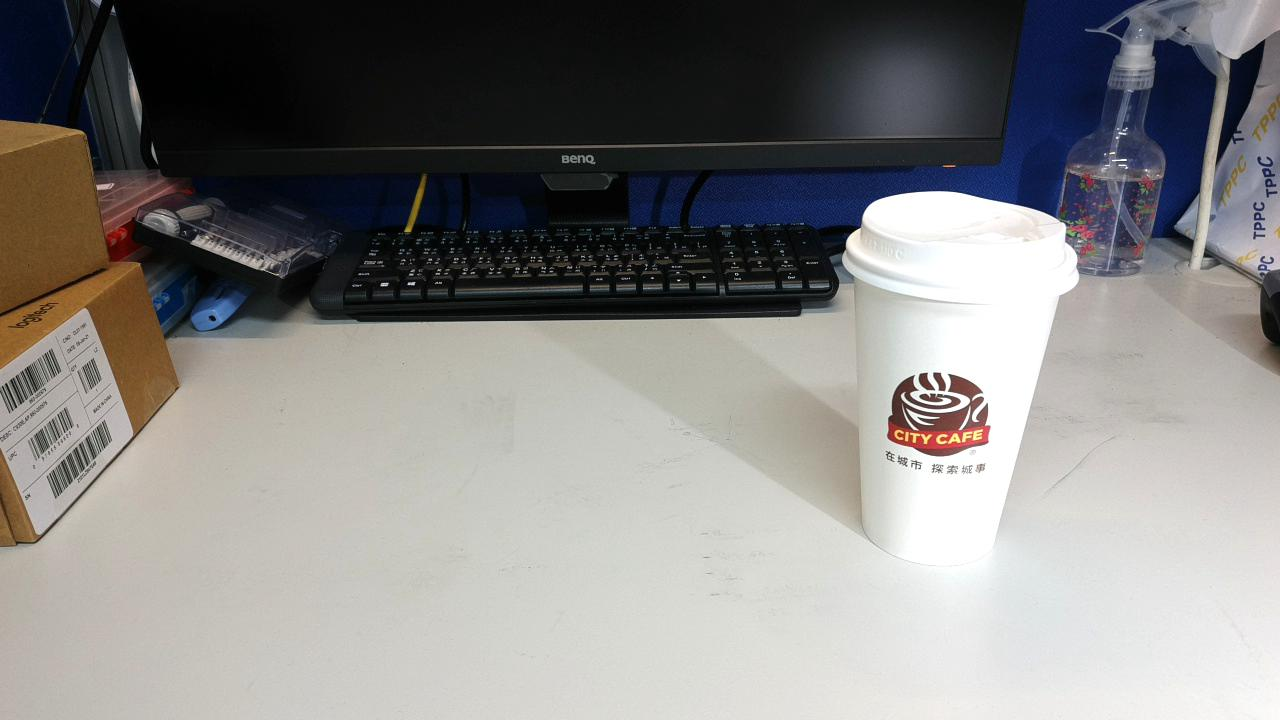columnar: (958, 273, 1170, 500)
grip: (1131, 352, 1220, 496)
